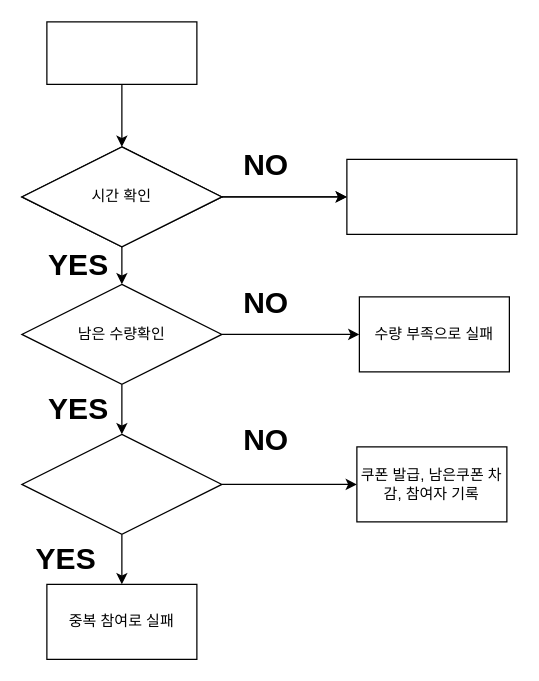
This 539x681 diagram has some shape labels left out. Each missing label, with the box of its shape:
시간 이전 요청으로 실패: (346, 158, 517, 234)
요청 발생: (46, 21, 197, 84)
중복참여 확인: (21, 433, 222, 534)
